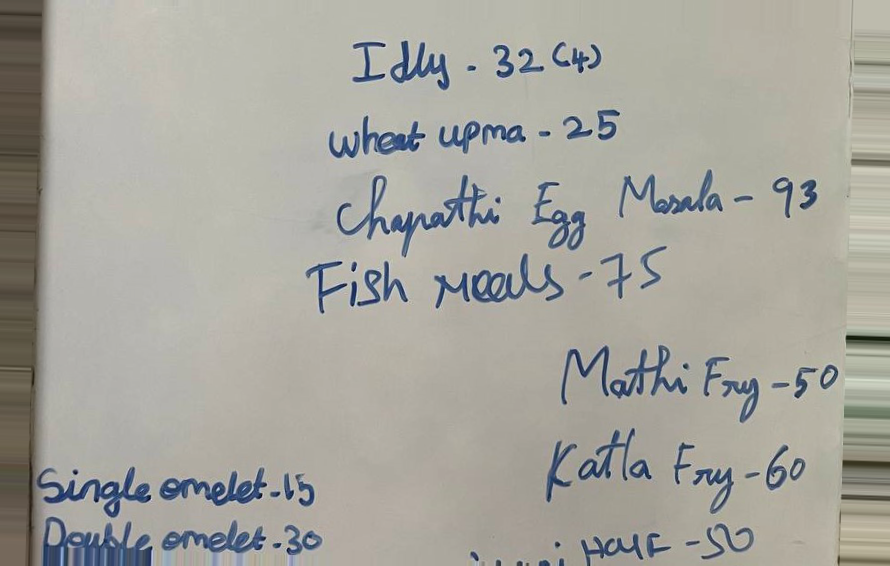chapathi egg masala - 93: (332, 170, 827, 239)
double omelet - 30: (39, 514, 332, 559)
fish Meals - 75: (304, 247, 673, 320)
idly(4) - 32: (345, 28, 605, 93)
katla fry - 60: (538, 423, 814, 510)
mathi fry - 50: (554, 340, 844, 428)
single omelet - 15: (33, 459, 321, 522)
wheat upma - 25: (325, 101, 626, 160)
